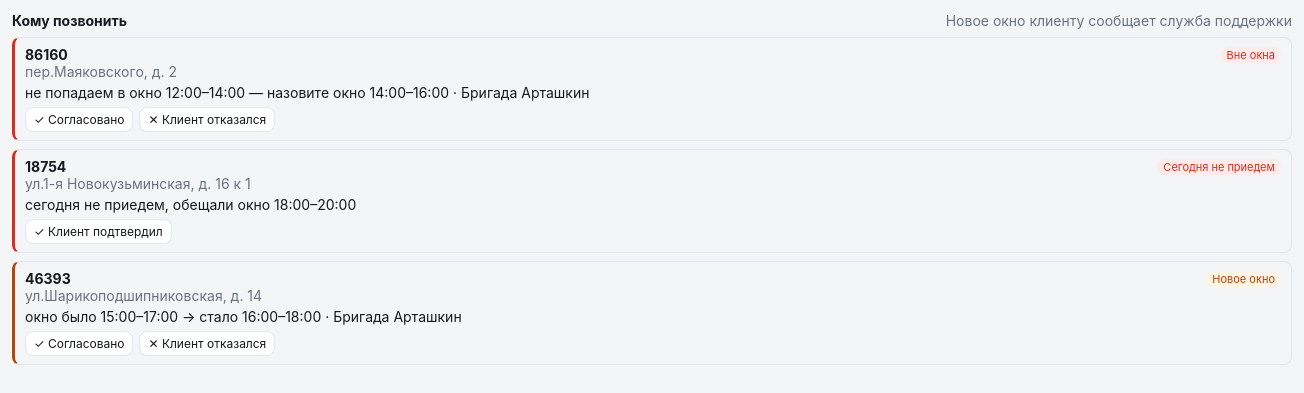
Scenario: CommunicationsTab › marks a row as agreed with an event on the time bar and moves it to the block below
This screenshot has width=1304, height=393.
Click the button "✓ Согласовано" below "46393".
click(79, 344)  # box x1=25 y1=331 x2=134 y2=356
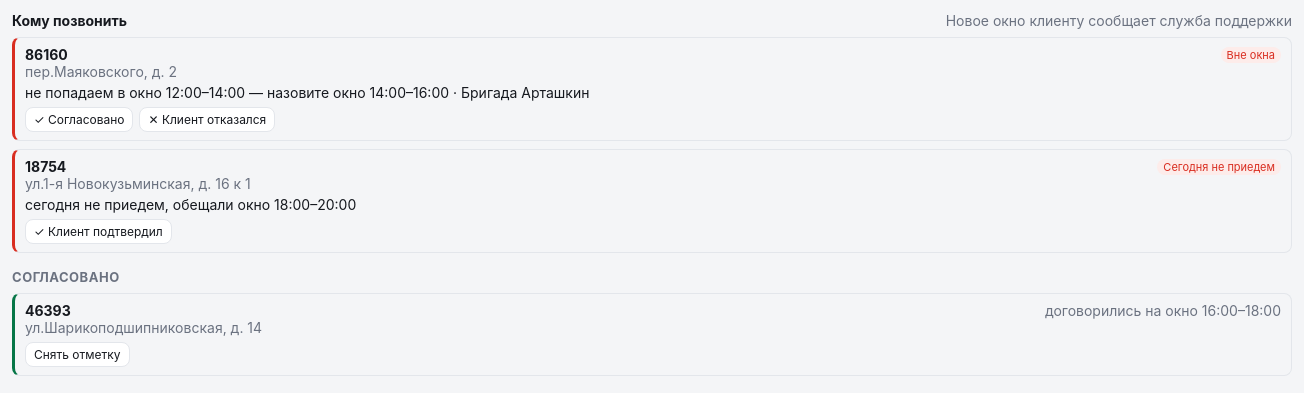
Expected: the heading "Согласовано" is shown, x1=12 y1=269 x2=120 y2=285
Now the text "договорились на окно 16:00–18:00" is shown, box x1=1045 y1=302 x2=1281 y2=319
